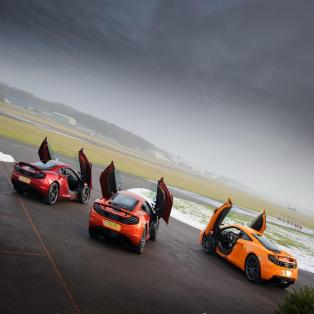Auto: (199, 195, 299, 291)
